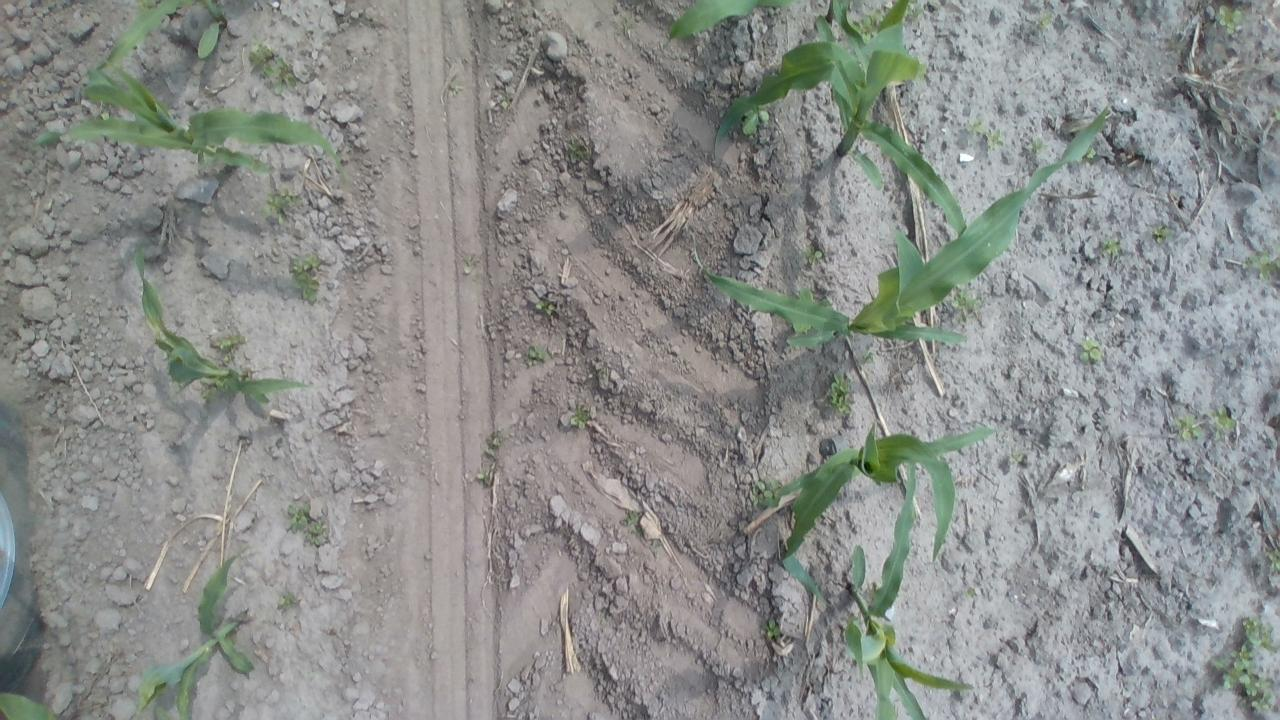Maize: (686, 103, 1118, 359), (723, 0, 971, 237), (764, 416, 1004, 600), (21, 56, 357, 187), (836, 450, 974, 720), (127, 236, 320, 410), (134, 541, 255, 720), (85, 0, 242, 70), (668, 0, 863, 41), (0, 687, 68, 720)
Weeds: (1206, 612, 1280, 715), (243, 31, 304, 98), (744, 474, 795, 518), (286, 502, 332, 550), (288, 248, 324, 305), (1239, 235, 1280, 281), (258, 185, 306, 224), (959, 116, 1006, 152), (824, 366, 856, 418), (852, 4, 884, 48), (950, 286, 986, 322), (742, 100, 772, 140), (205, 328, 250, 354), (1209, 406, 1243, 440), (564, 397, 598, 430), (614, 497, 645, 533), (1171, 412, 1207, 442), (1214, 5, 1246, 38), (1076, 334, 1106, 368), (530, 292, 561, 324), (797, 286, 836, 310), (482, 428, 510, 459), (522, 342, 552, 368), (1100, 235, 1127, 263), (1151, 222, 1179, 248), (1024, 134, 1052, 160), (614, 10, 640, 38), (644, 534, 670, 561), (760, 617, 786, 643), (1034, 10, 1060, 35), (459, 252, 485, 277), (801, 244, 824, 270), (274, 589, 301, 611), (896, 0, 920, 24), (565, 139, 588, 164), (1078, 138, 1103, 160), (475, 463, 496, 487), (490, 88, 511, 112), (1265, 546, 1280, 578), (1006, 446, 1026, 469), (858, 347, 882, 365), (200, 384, 221, 403), (958, 584, 978, 602), (1268, 103, 1280, 128), (592, 364, 610, 380)
